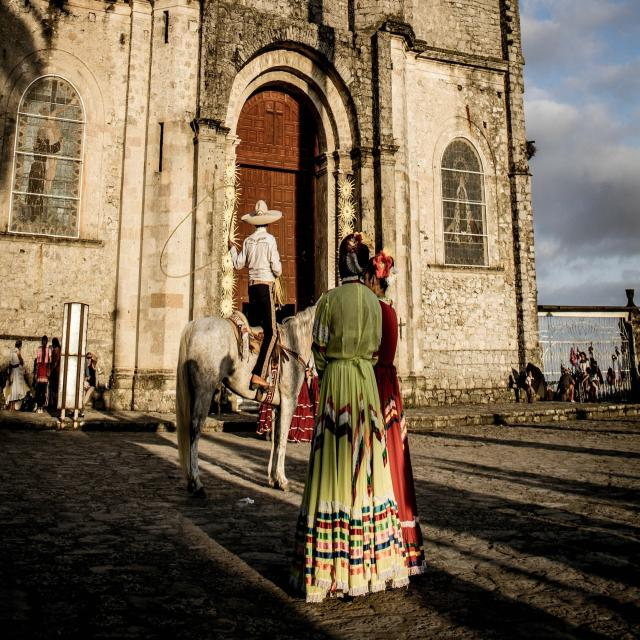adult: (298, 232, 396, 603), (366, 256, 424, 569), (230, 200, 282, 392), (7, 340, 27, 412), (36, 336, 51, 414), (84, 351, 98, 407), (556, 368, 575, 404), (524, 370, 534, 404), (579, 351, 589, 382)
